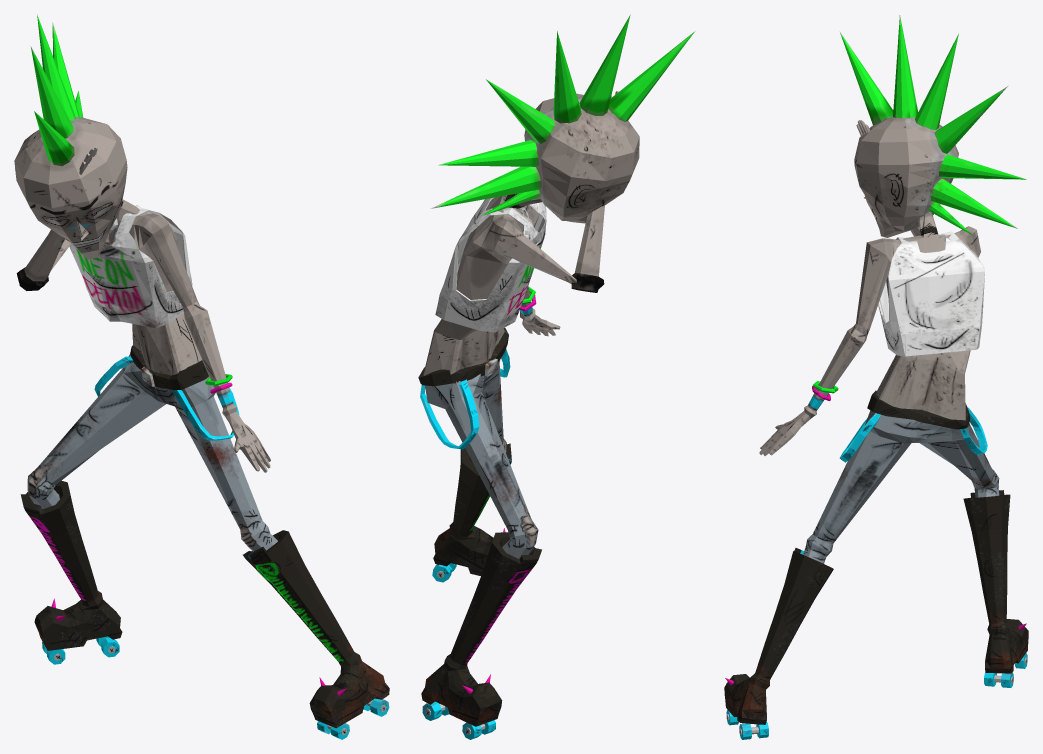
Rendered from punkAnimation_000034.obj.
3 renders of one model, left to right at view 1: azimuth 30°, elevation 25°; view 2: azimuth 150°, elevation 25°; view 3: azimuth 270°, elevation 25°, orthographic. The views are drawn at different scales.
Parts seen in each view (by area): view 1: Cube.004_Cube.003; view 2: Cube.004_Cube.003; view 3: Cube.004_Cube.003.
Boxes of the visible parts, x1,y1,x2,y2 form: Cube.004_Cube.003: [14, 14, 389, 739]; Cube.004_Cube.003: [418, 14, 694, 739]; Cube.004_Cube.003: [724, 15, 1028, 739].
Bounding box in the file's own units: 3.13 × 6.72 × 3.01.
